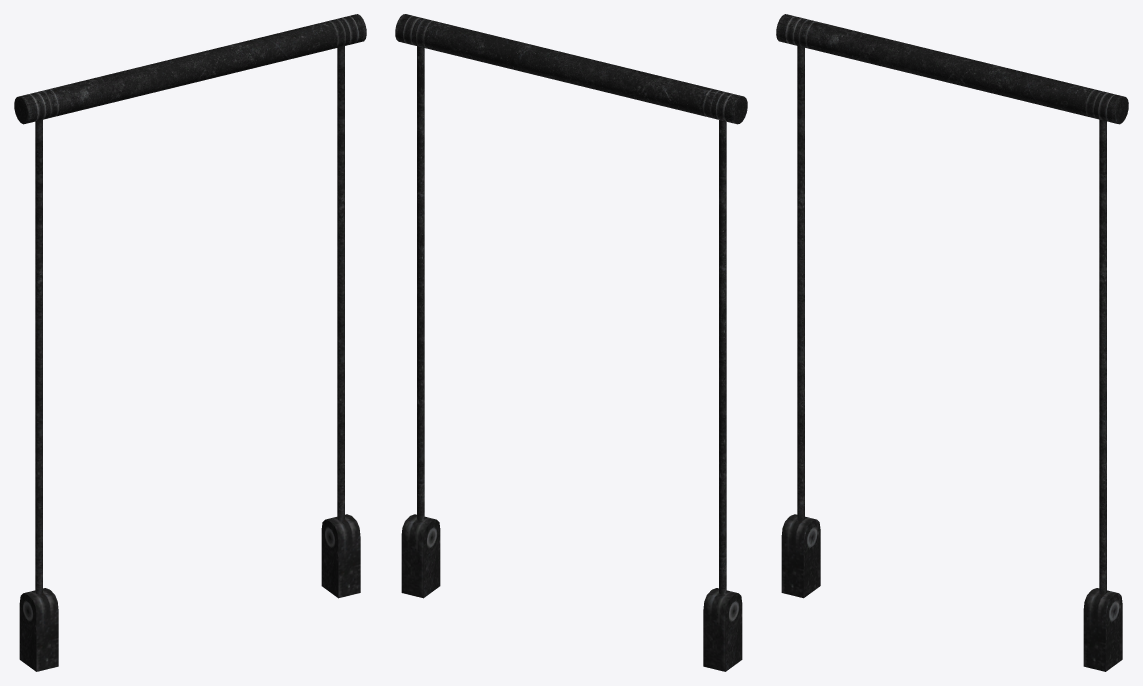
Rendered from SM_InfoTableRope.FBX.
3 renders of one model, left to right at view 1: azimuth 30°, elevation 25°; view 2: azimuth 150°, elevation 25°; view 3: azimuth 330°, elevation 25°, orthographic.
Visible parts, largest first — view 1: SM_InfoTableRope; view 2: SM_InfoTableRope; view 3: SM_InfoTableRope.
Part boxes in pixels (bbox=[...]): SM_InfoTableRope: bbox=[14, 14, 366, 671]; SM_InfoTableRope: bbox=[395, 14, 747, 671]; SM_InfoTableRope: bbox=[776, 14, 1128, 671].
Size of the model in its own units: 127 by 10.83 by 204.
